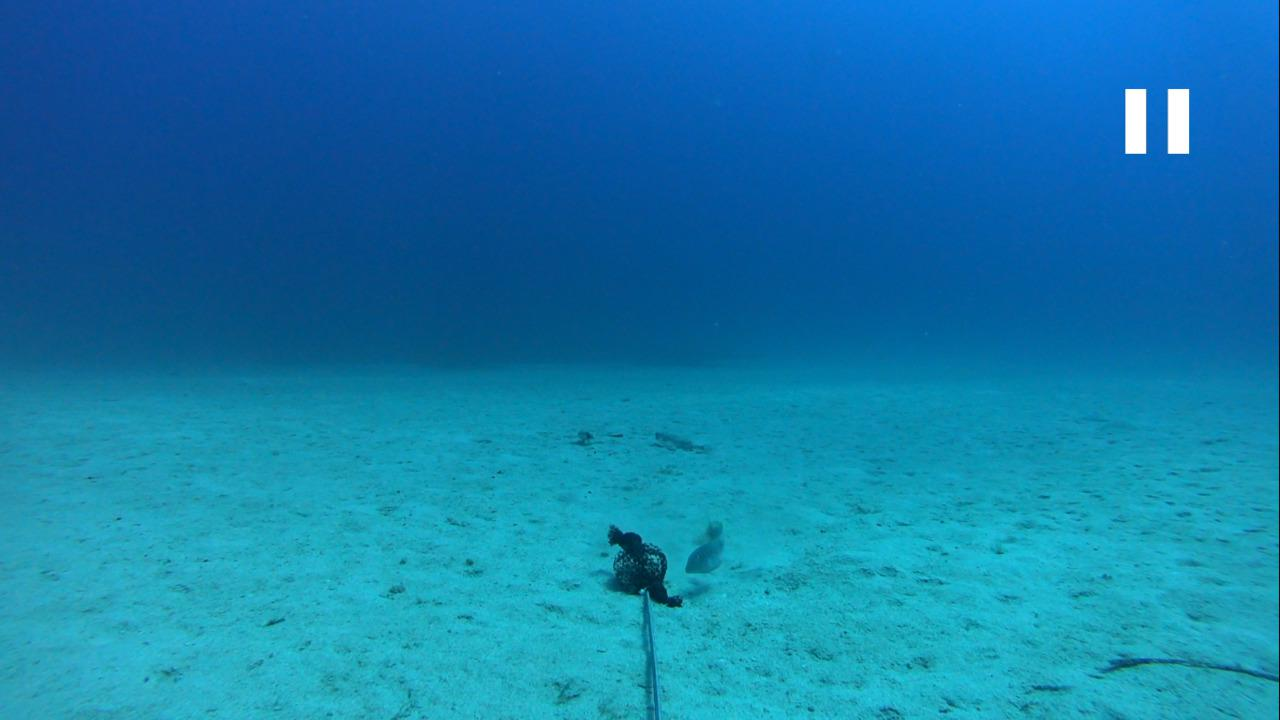dactylopterus: (638, 423, 720, 455), (562, 416, 606, 453)
raor: (679, 516, 728, 578)
